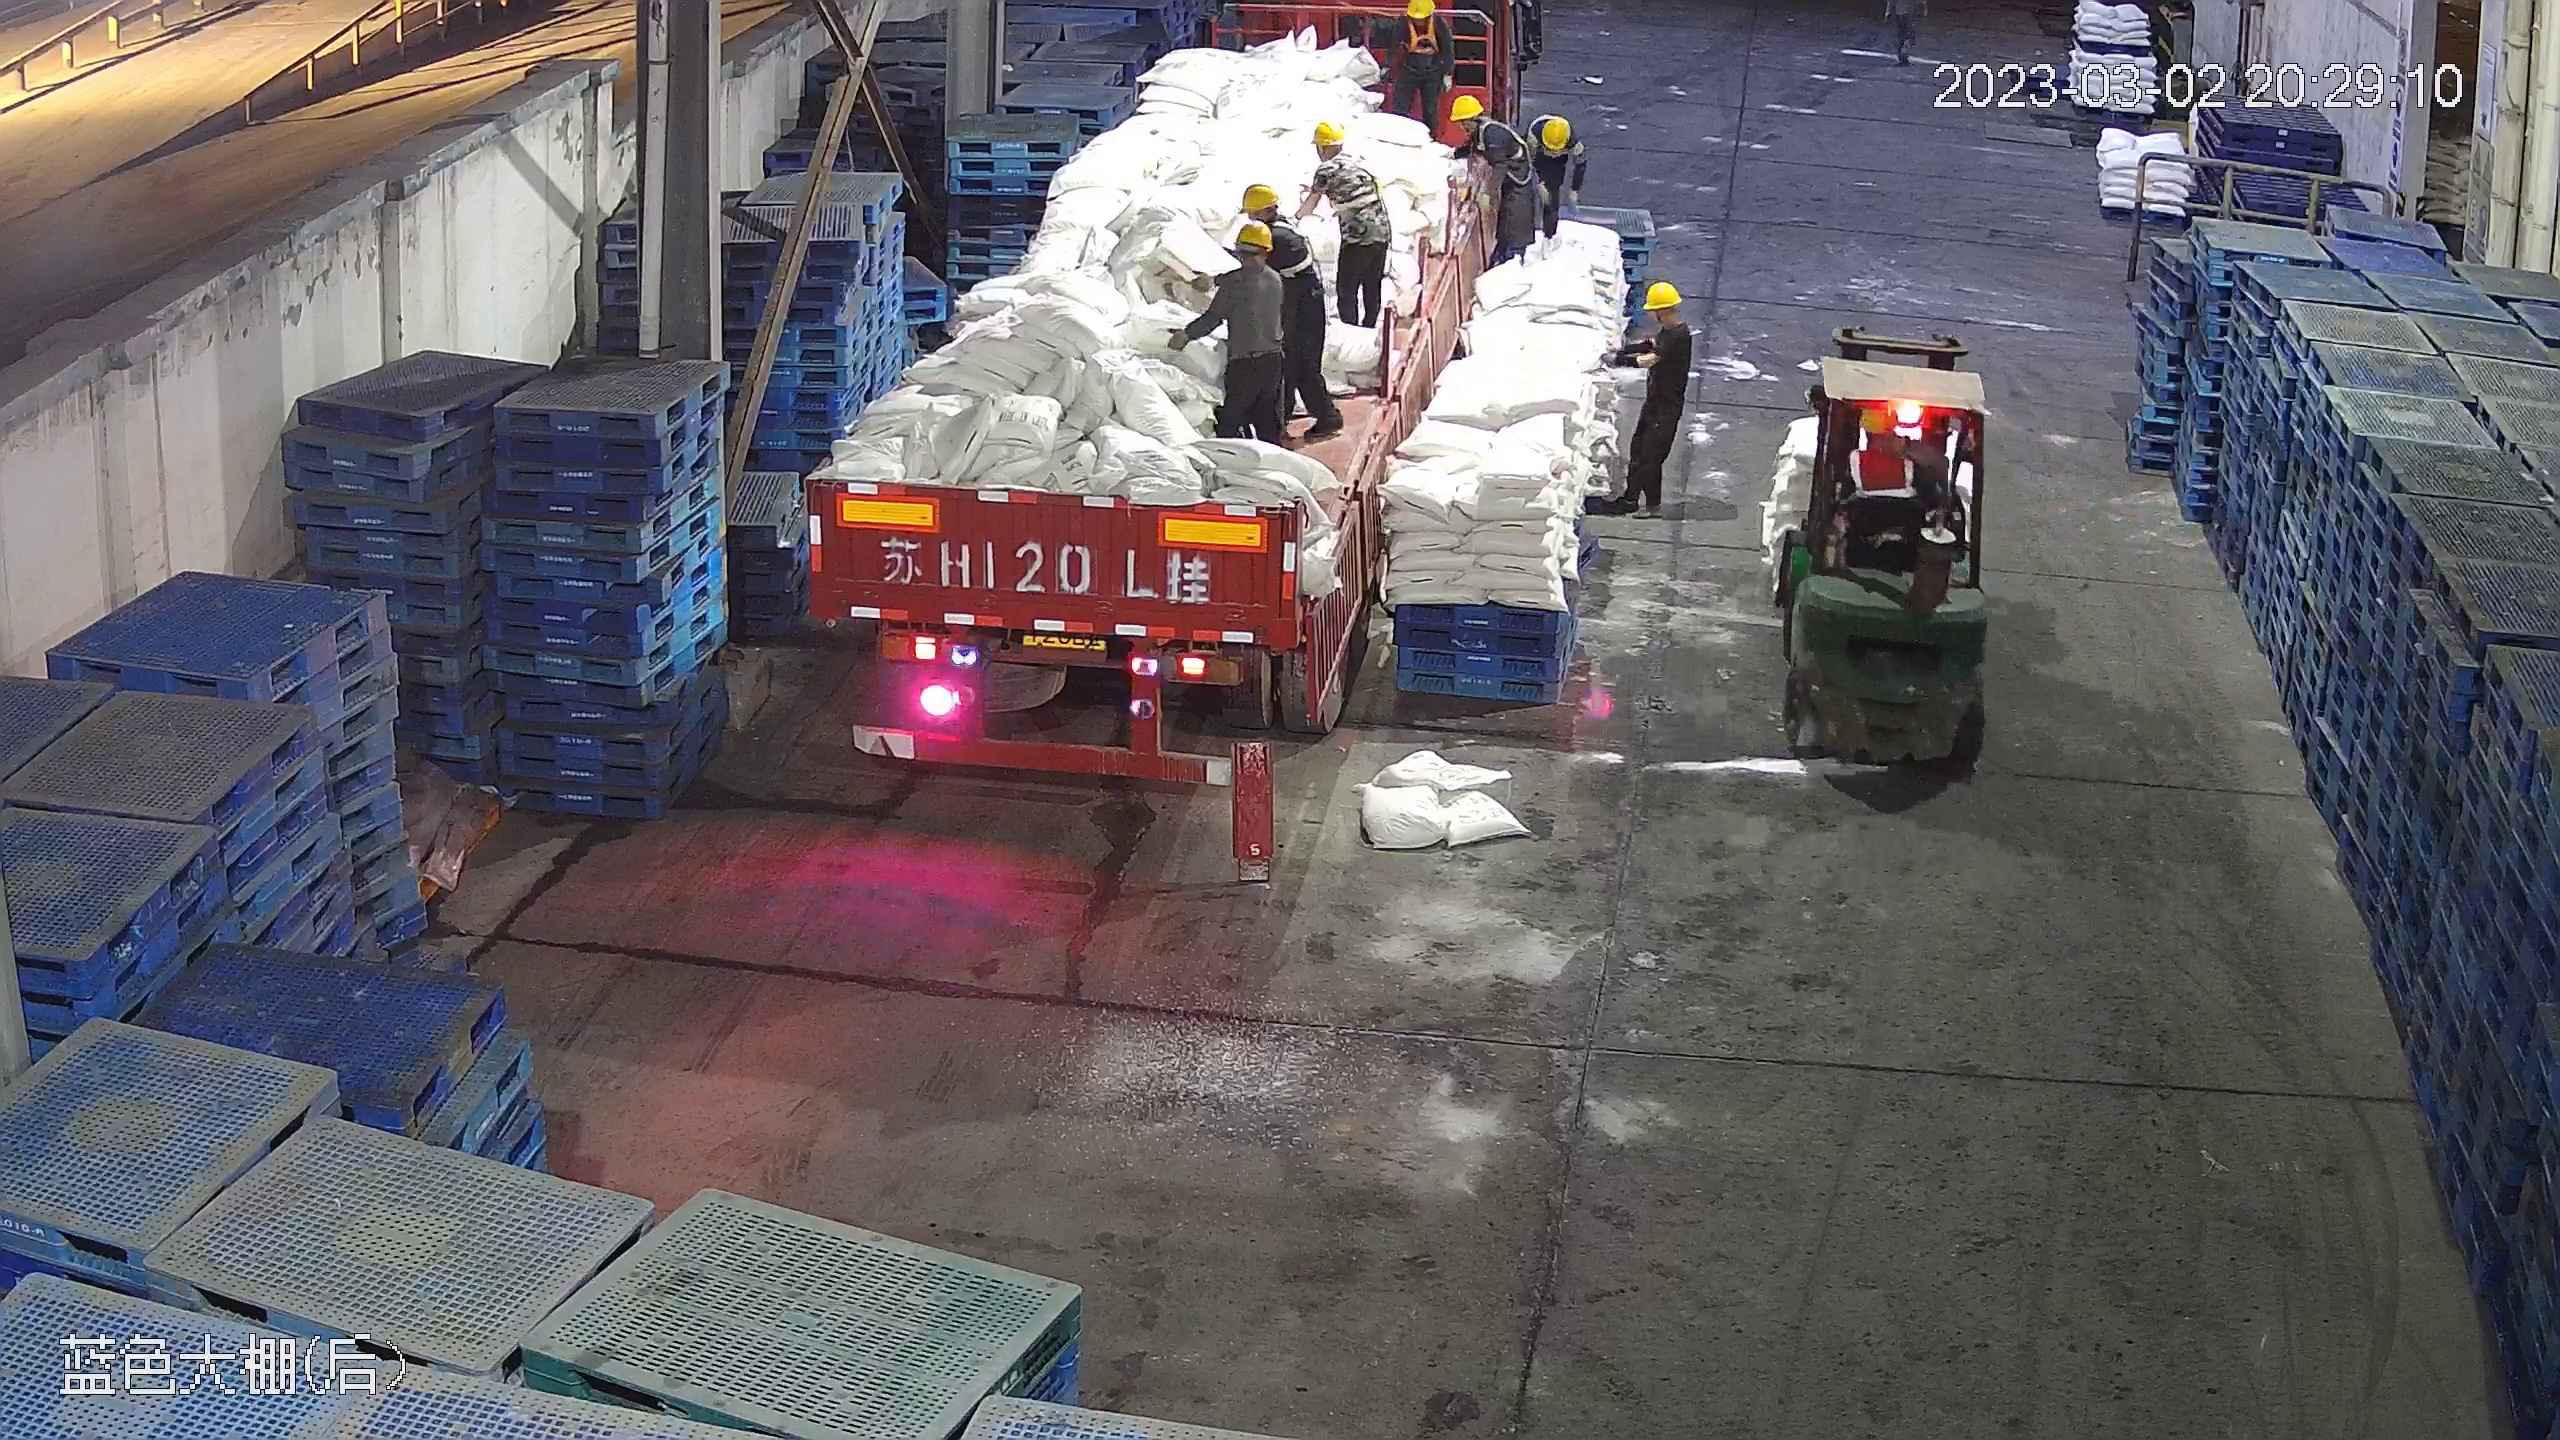belt: (1265, 218, 1324, 281), (1325, 154, 1382, 212), (1481, 126, 1538, 181), (1399, 10, 1444, 54)
head: (1221, 209, 1307, 296), (1842, 401, 1922, 490), (1304, 119, 1376, 191), (1627, 278, 1695, 350), (1449, 98, 1524, 161), (1396, 1, 1454, 45), (1533, 114, 1574, 159)
helmet: (1237, 179, 1284, 215), (1862, 403, 1903, 439), (1643, 279, 1684, 311), (1446, 92, 1482, 125), (1540, 115, 1573, 150), (1238, 220, 1274, 252), (1307, 119, 1345, 147), (1404, 1, 1436, 23)
people: (1604, 277, 1696, 512), (1299, 115, 1391, 342), (1201, 216, 1288, 446), (1444, 99, 1554, 270), (1383, 1, 1458, 149), (1512, 103, 1581, 260)
truck: (797, 10, 1463, 776)
